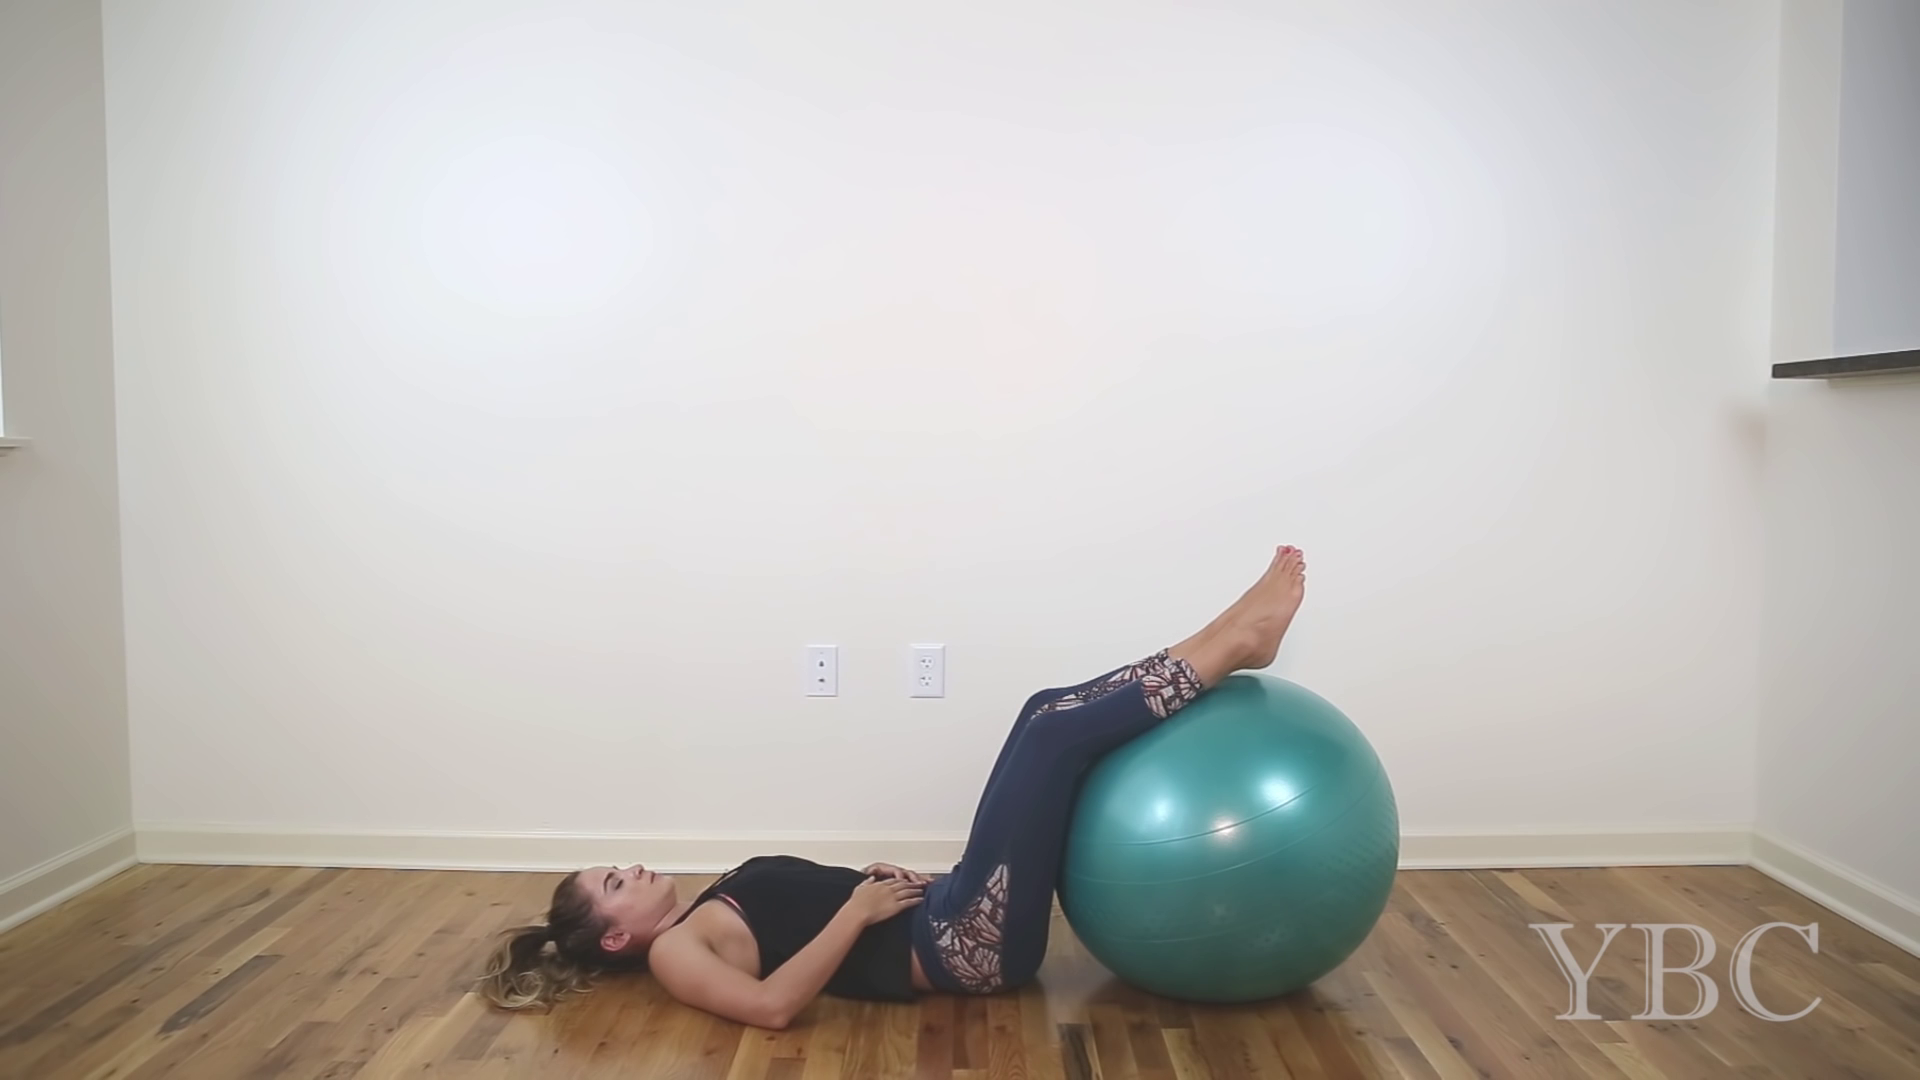yogaball: (1054, 669, 1408, 1019)
